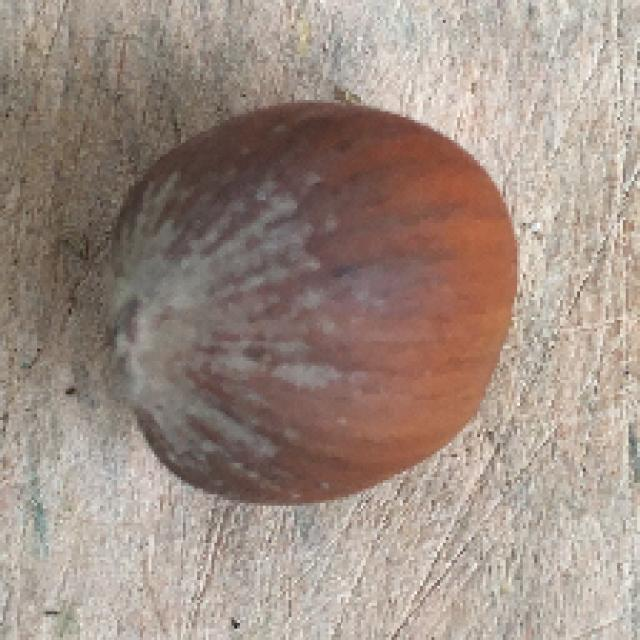qualityHazelnut: (101, 97, 528, 510)
